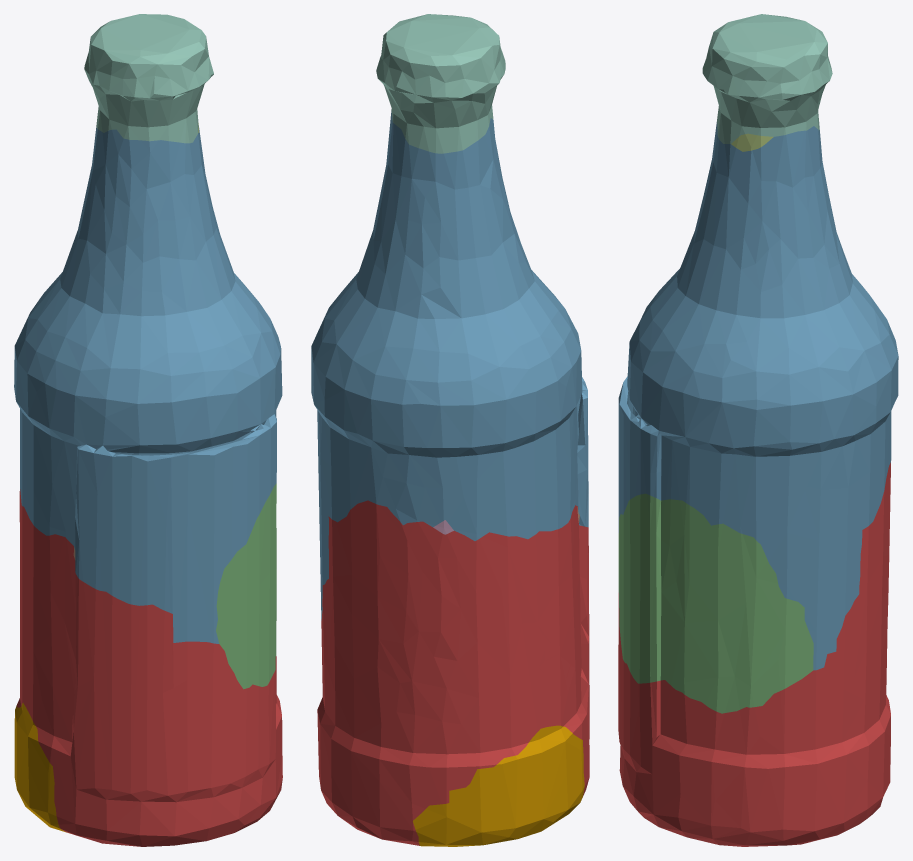
The model's file is mode_10_8pcs.glb.
3 renders of one model, left to right at view 1: azimuth 30°, elevation 25°; view 2: azimuth 150°, elevation 25°; view 3: azimuth 270°, elevation 25°, orthographic.
Parts seen in each view (by area): view 1: piece_2.obj, piece_1.obj, piece_4.obj, piece_3.obj, piece_0.obj; view 2: piece_2.obj, piece_1.obj, piece_4.obj, piece_0.obj; view 3: piece_2.obj, piece_1.obj, piece_3.obj, piece_4.obj.
Boxes of the visible parts, box(x1,y1,x2,y2) form: piece_2.obj: box(14, 125, 282, 643); piece_1.obj: box(16, 489, 282, 846); piece_4.obj: box(84, 14, 213, 143); piece_3.obj: box(216, 483, 276, 689); piece_0.obj: box(14, 703, 66, 832); piece_2.obj: box(311, 111, 588, 620); piece_1.obj: box(317, 500, 589, 845); piece_4.obj: box(376, 14, 505, 153); piece_0.obj: box(413, 725, 584, 846); piece_2.obj: box(618, 122, 898, 670); piece_1.obj: box(618, 462, 890, 846); piece_3.obj: box(618, 493, 813, 713); piece_4.obj: box(702, 14, 832, 143).
Bounding box in the file's own units: 0.3241 × 1 × 0.3307.
